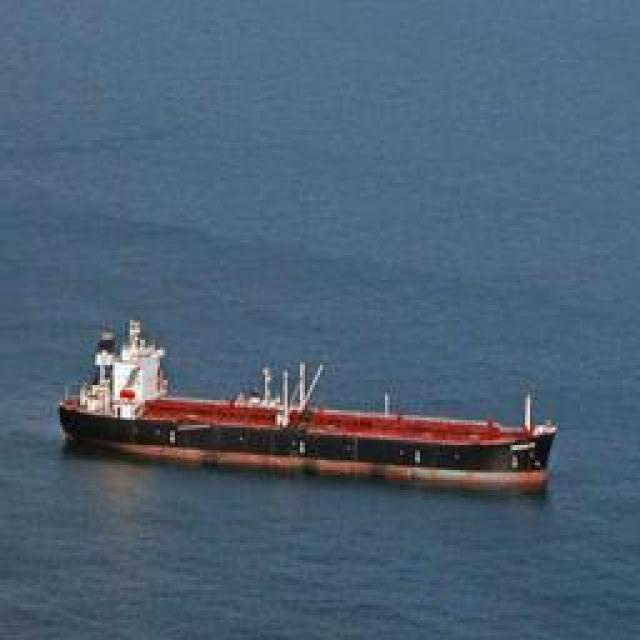CIV_Ship: (50, 321, 550, 484)
